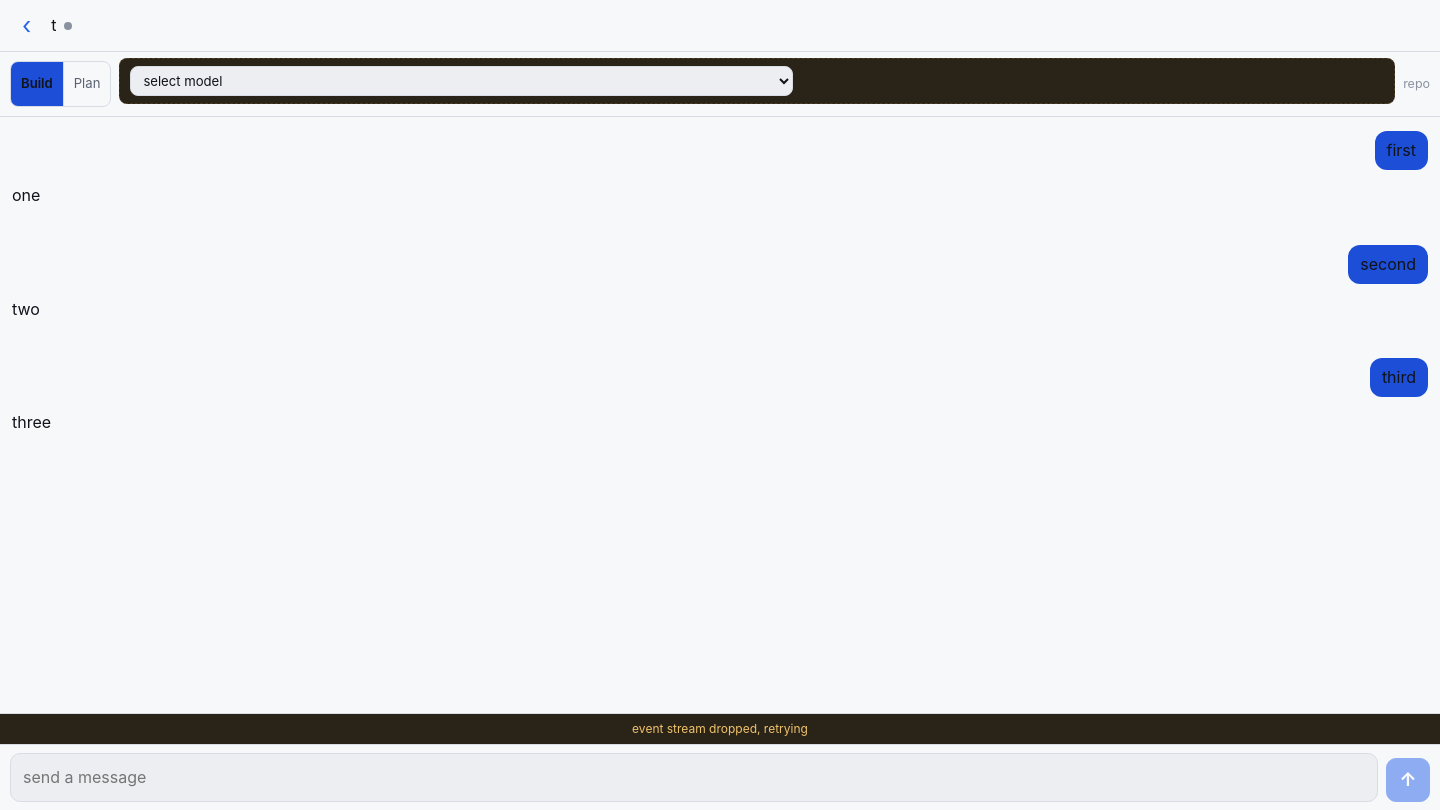
Test: long-press actions › opens the menu on a long press without sending
This screenshot has width=1440, height=810.
Press the mouse on the button named "Send" at (1408, 780), box [1386,758,1430,802]
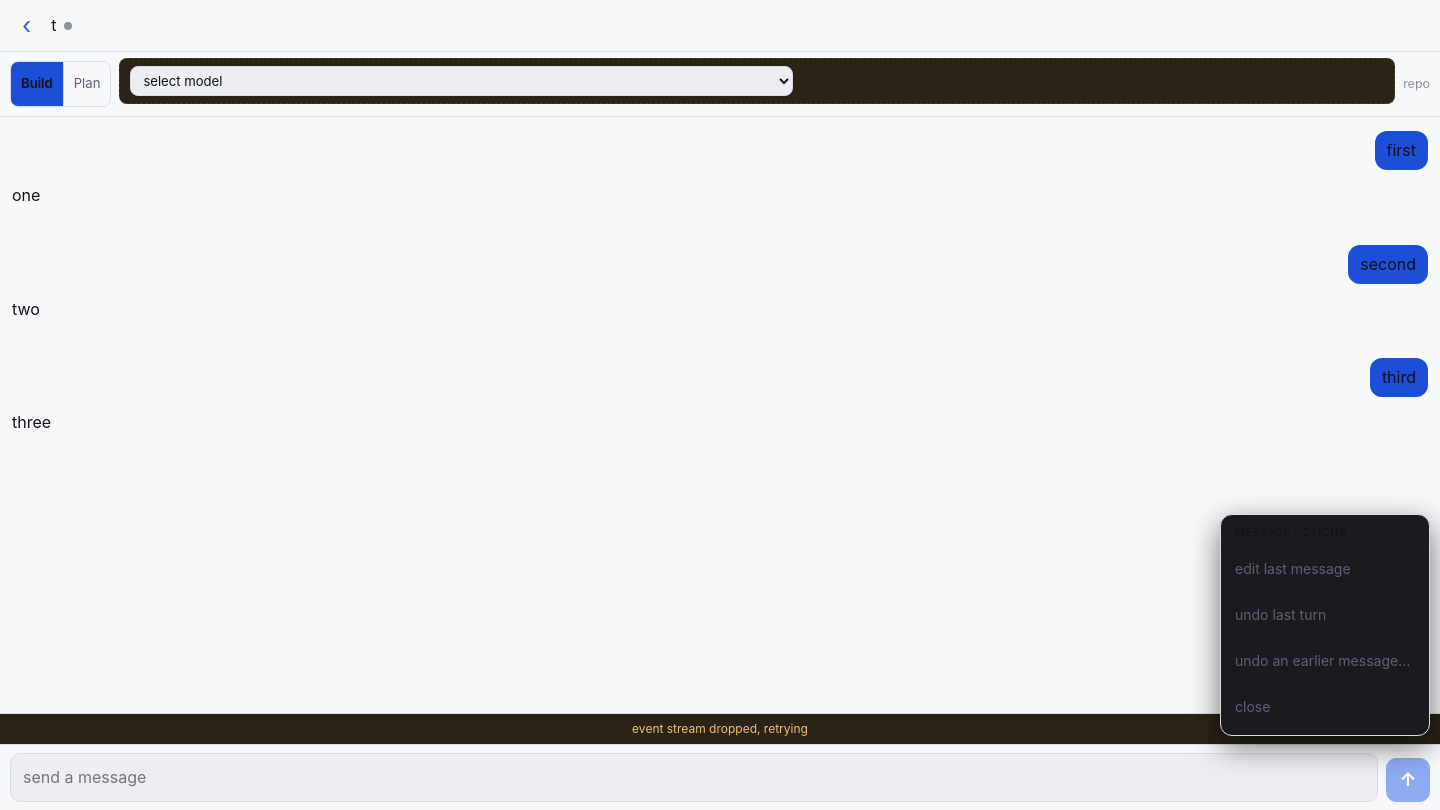
Expected: the menu is shown, [1220,514,1430,736]
